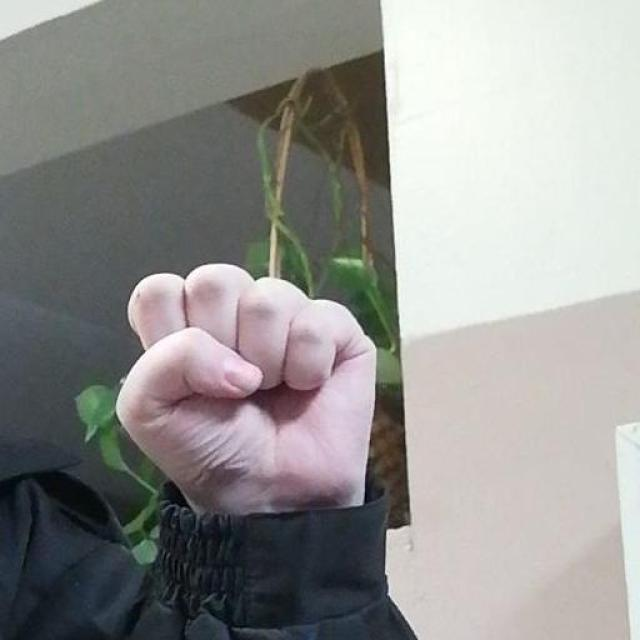hand: (114, 262, 378, 518)
